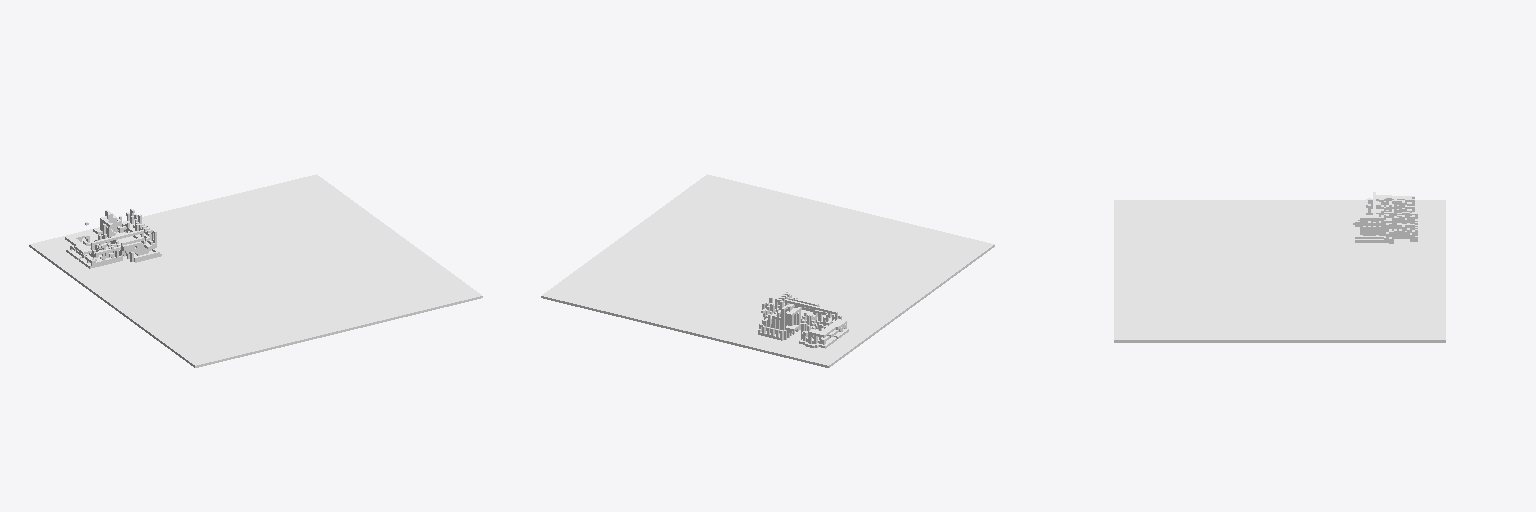
The model's file is LevelOne.obj.
3 renders of one model, left to right at view 1: azimuth 30°, elevation 25°; view 2: azimuth 150°, elevation 25°; view 3: azimuth 270°, elevation 25°, orthographic.
Parts seen in each view (by area): view 1: object 1; view 2: object 1; view 3: object 1.
Part boxes in pixels (left/top/right/bottom): object 1: left=29, top=174, right=482, bottom=367; object 1: left=541, top=174, right=994, bottom=367; object 1: left=1114, top=192, right=1445, bottom=342.
Bounding box in the file's own units: 12.8 × 1.4 × 12.8.